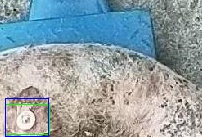text: (5, 104, 49, 134)
